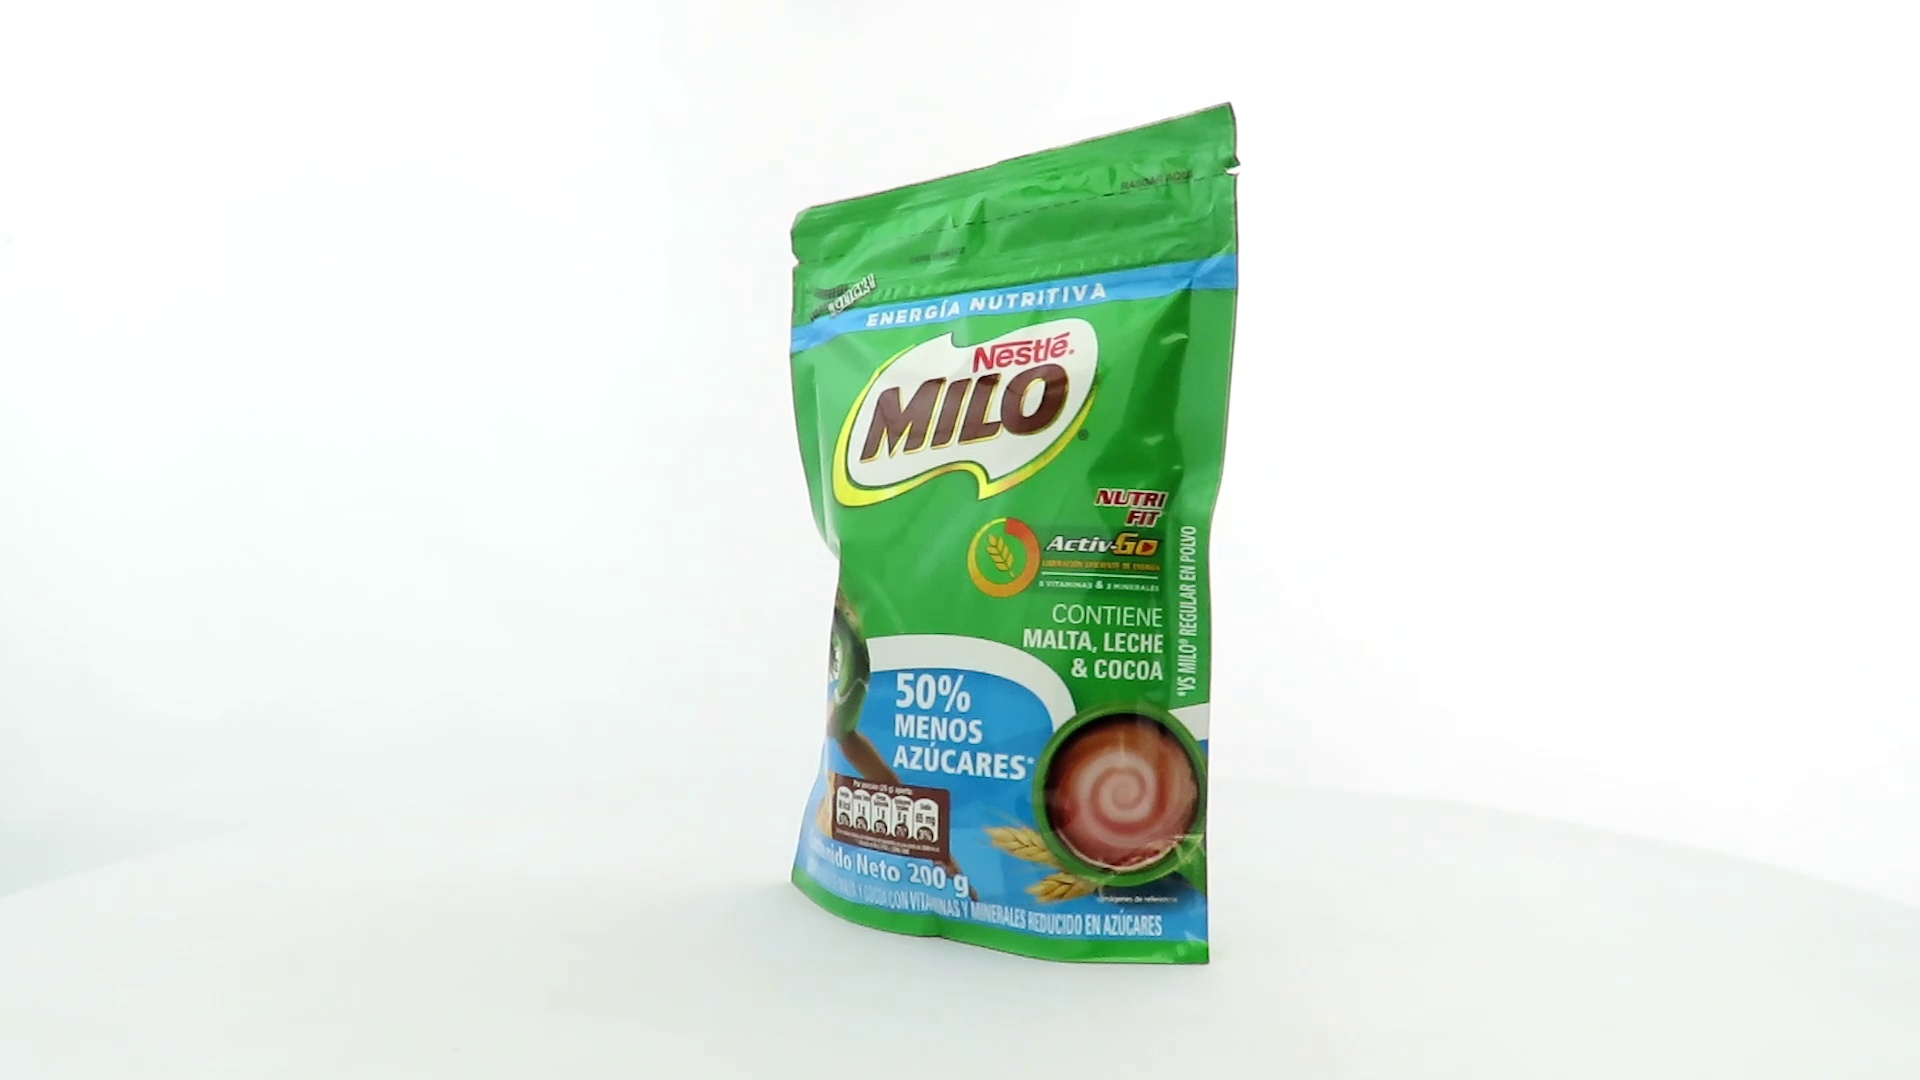COL0170205DYP20000: (785, 98, 1247, 971)
